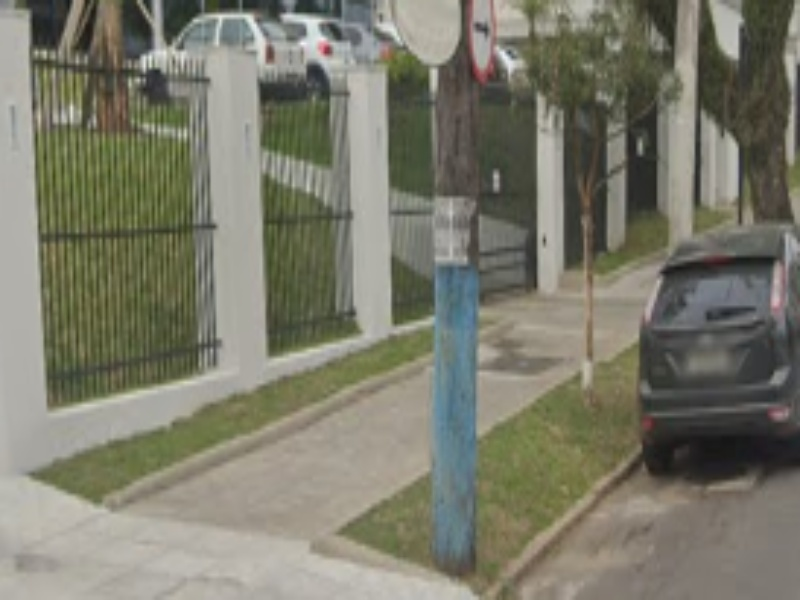v37: (490, 464, 677, 583)
